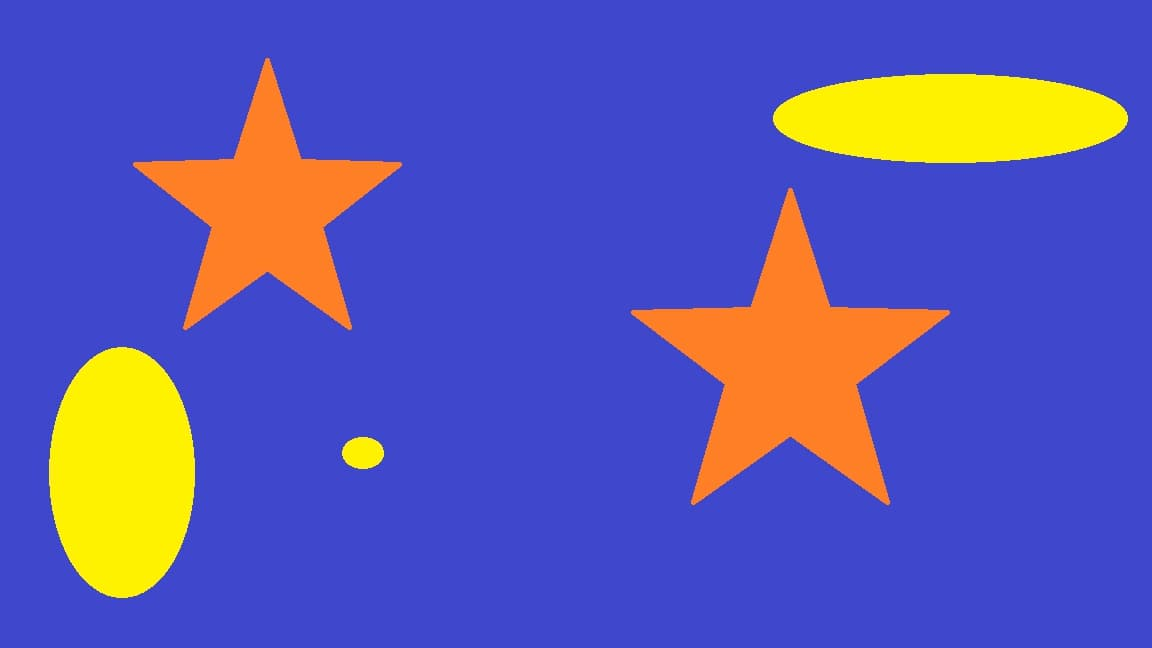Oval: (45, 343, 196, 596), (769, 70, 1129, 161), (338, 437, 386, 469)
Star: (630, 184, 951, 506), (132, 55, 401, 329)
